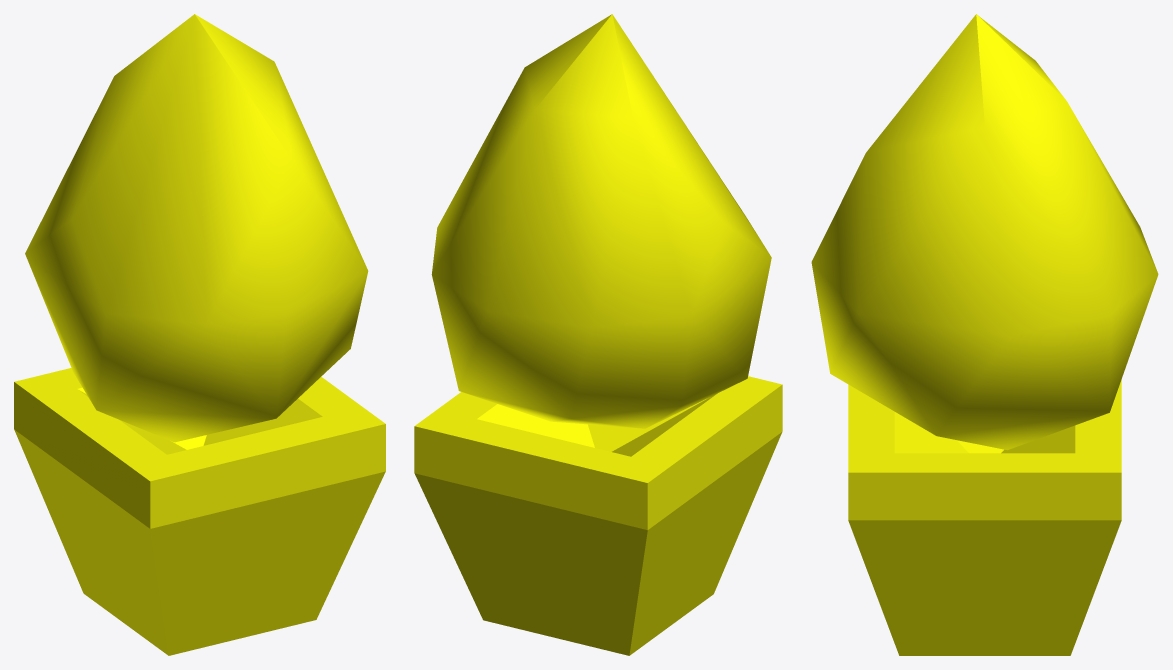
File: kaykit-bush.glb
3 views of the same model, side by side, from view 1: azimuth 30°, elevation 25°; view 2: azimuth 150°, elevation 25°; view 3: azimuth 270°, elevation 25° (orthographic).
Visible parts, largest first — view 1: bush; view 2: bush; view 3: bush.
Part boxes in pixels (x1,y1,x2,y2): bush: [14, 14, 385, 655]; bush: [414, 14, 782, 655]; bush: [811, 14, 1158, 655].
Size of the model in its own units: 0.1894 by 0.3805 by 0.1991.
